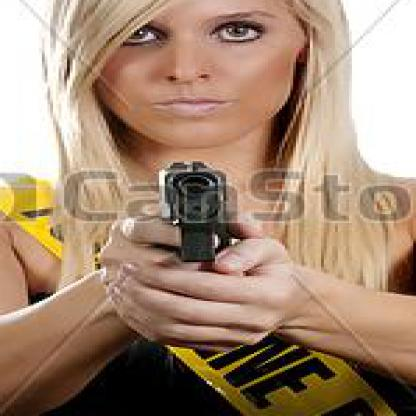gun: (145, 154, 254, 299)
